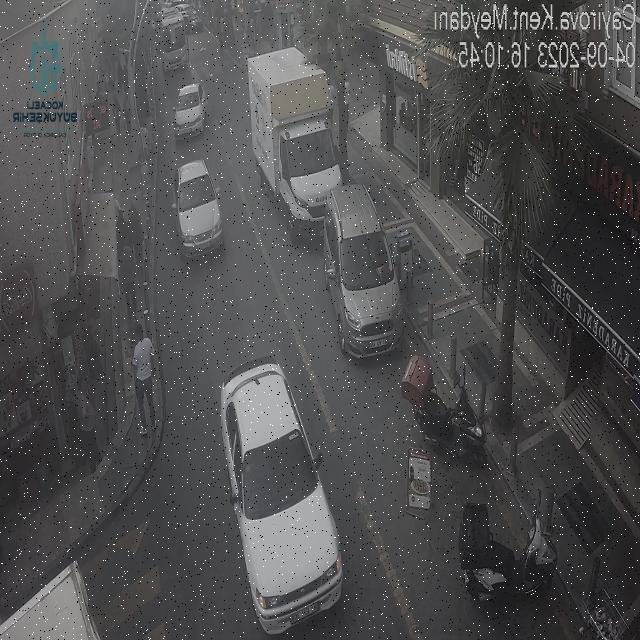Car: (203, 348, 339, 638), (317, 177, 408, 358), (156, 152, 229, 268), (156, 72, 209, 142)
Cycle: (448, 493, 573, 608), (392, 334, 497, 470)
Truck: (251, 33, 347, 235)
